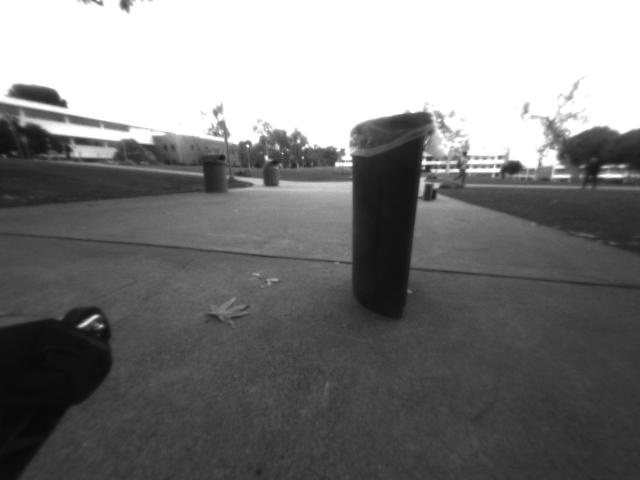trashcan_open: (344, 107, 440, 322)
